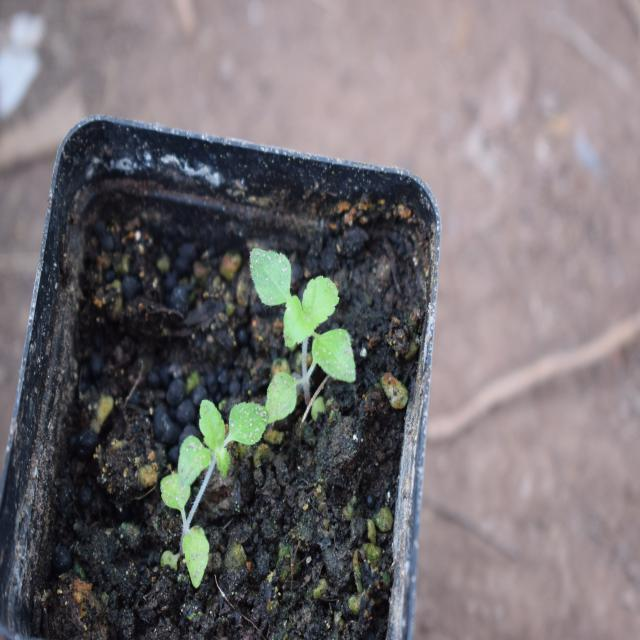billygoat_weed: (248, 190, 371, 445), (155, 362, 267, 562)
